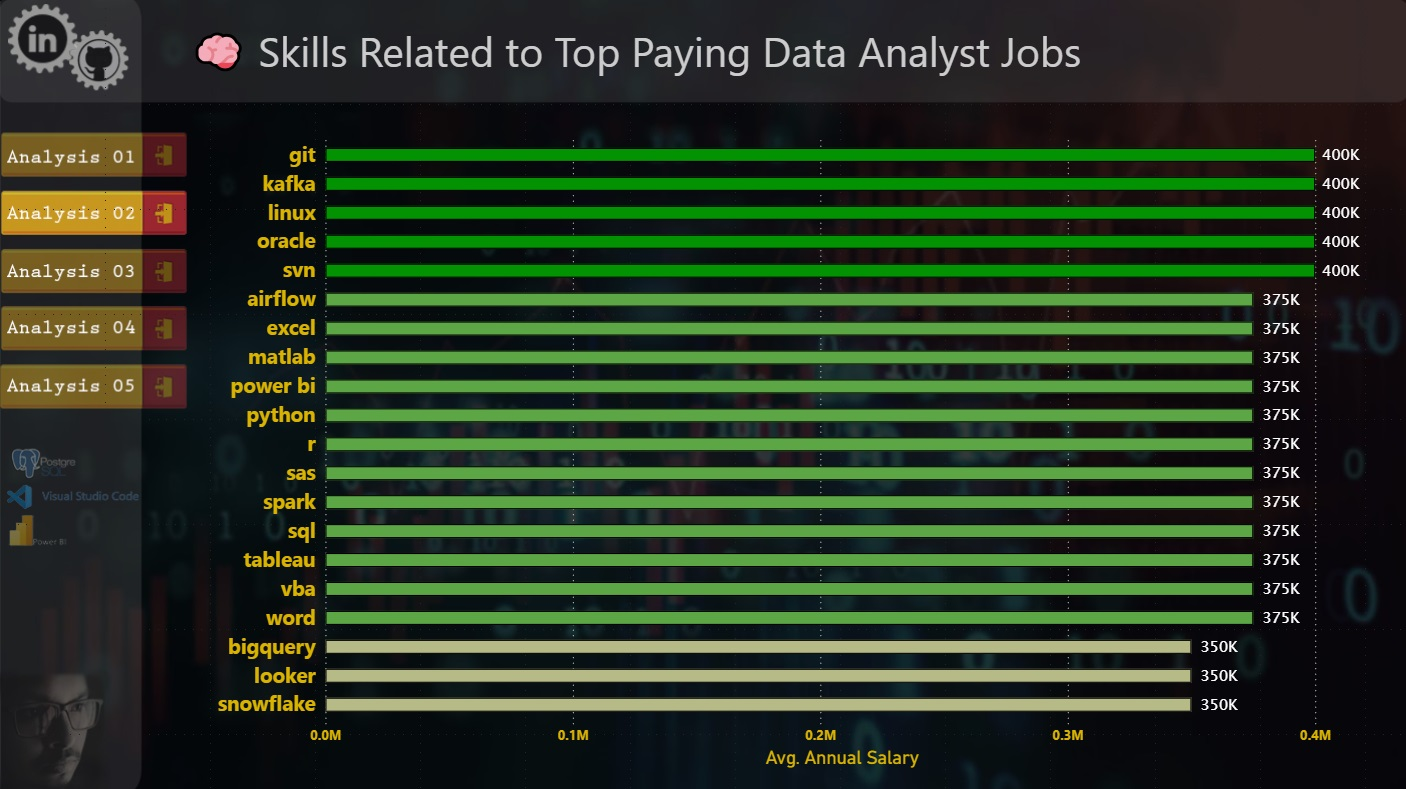

The page's visual inventory and layout, read from the dashboard file:
{"tool":"powerbi","page":{"name":"Q2 - Skills Related to Top Paying Jobs","canvas":[1280,720],"ordinal":1},"visuals":[{"type":"clusteredBarChart","fields":{"Category":["2_skills_for_top10_jobs (2).skill_name"],"Y":["Max(2_skills_for_top10_jobs (2).annual_salary)"]},"box":[192,112,1064,592],"z":0},{"type":"textbox","box":[168,16,1112,80],"z":1000},{"type":"actionButton","box":[0,120,168,40],"z":2000},{"type":"actionButton","box":[0,176,168,40],"z":3000},{"type":"actionButton","box":[0,224,168,40],"z":4000},{"type":"actionButton","box":[0,280,168,40],"z":5000},{"type":"actionButton","box":[0,336,168,40],"z":6000},{"type":"actionButton","box":[16,16,48,40],"z":6001},{"type":"actionButton","box":[72,40,40,32],"z":6002}]}

Visuals, with their boxes in screenshot pixels (x1, y1, x2, y2), scaled from the page's 1280x720 canvas onto the 1406x789 screenshot:
clusteredBarChart - 2_skills_for_top10_jobs (2).skill_name x Max(2_skills_for_top10_jobs (2).annual_salary): x1=211 y1=123 x2=1380 y2=771
textbox: x1=185 y1=18 x2=1405 y2=105
actionButton: x1=0 y1=132 x2=185 y2=175
actionButton: x1=0 y1=193 x2=185 y2=237
actionButton: x1=0 y1=245 x2=185 y2=289
actionButton: x1=0 y1=307 x2=185 y2=351
actionButton: x1=0 y1=368 x2=185 y2=412
actionButton: x1=18 y1=18 x2=70 y2=61
actionButton: x1=79 y1=44 x2=123 y2=79
